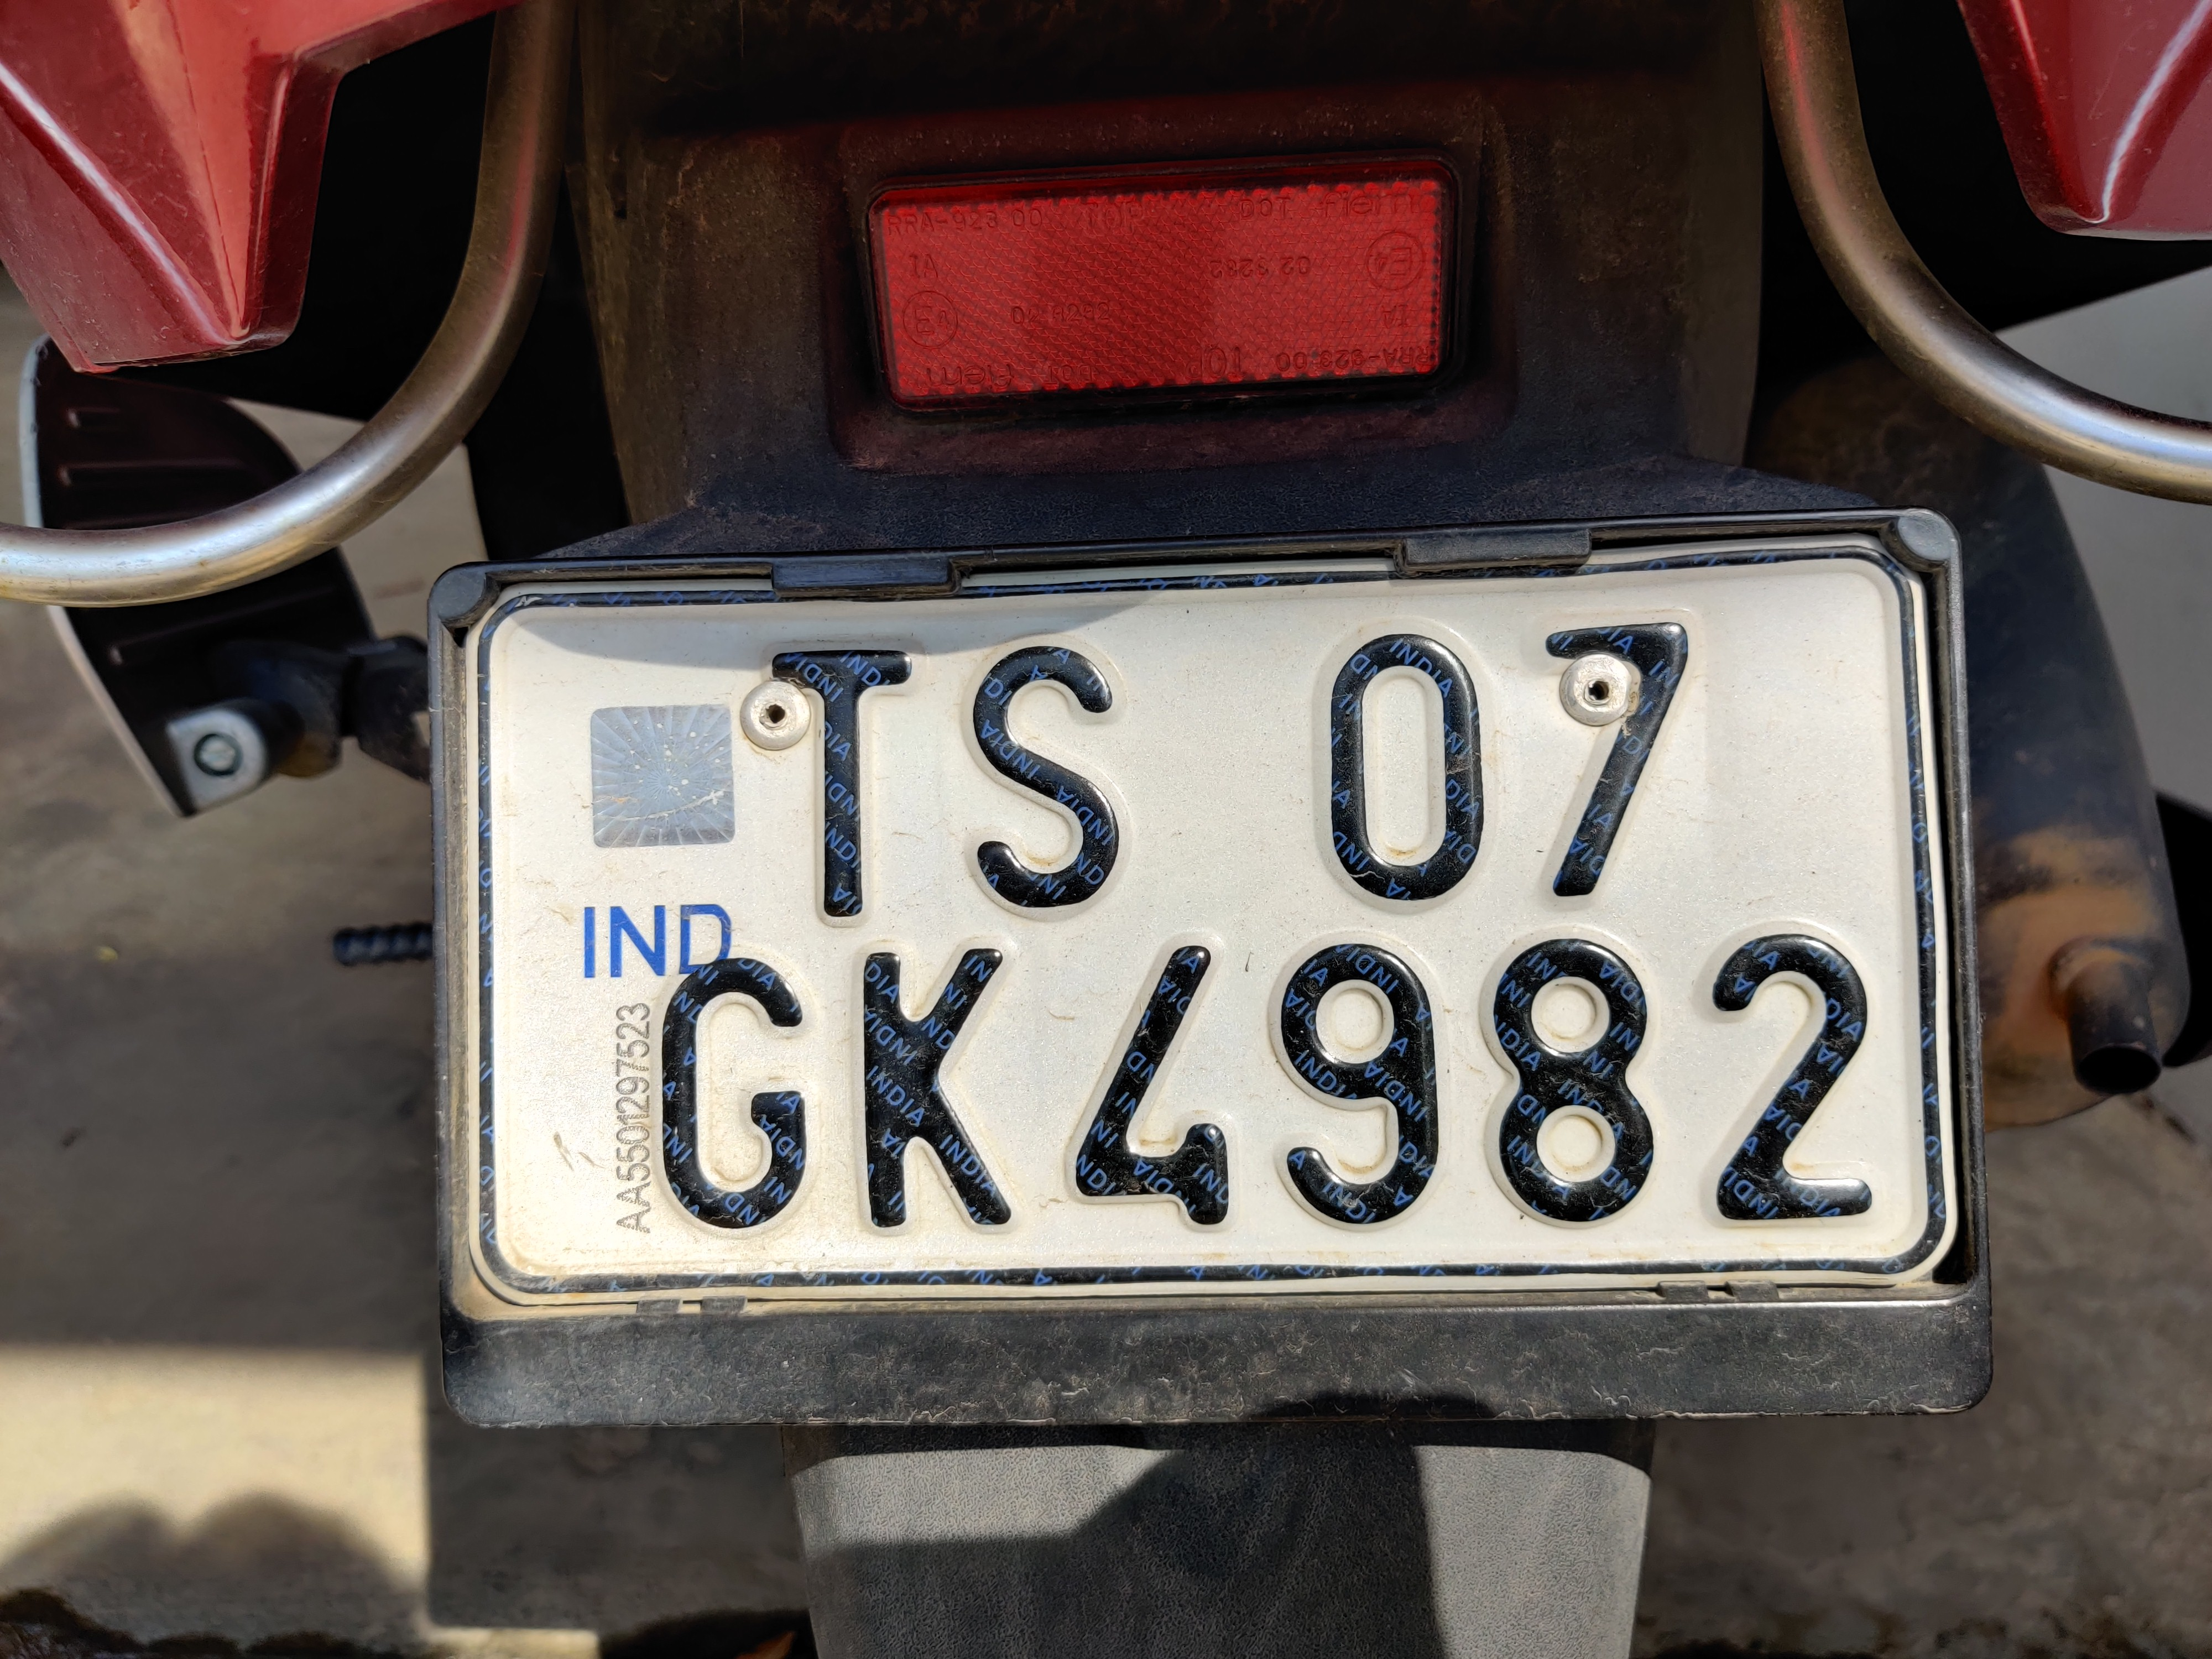plate: (395, 528, 2054, 1501)
